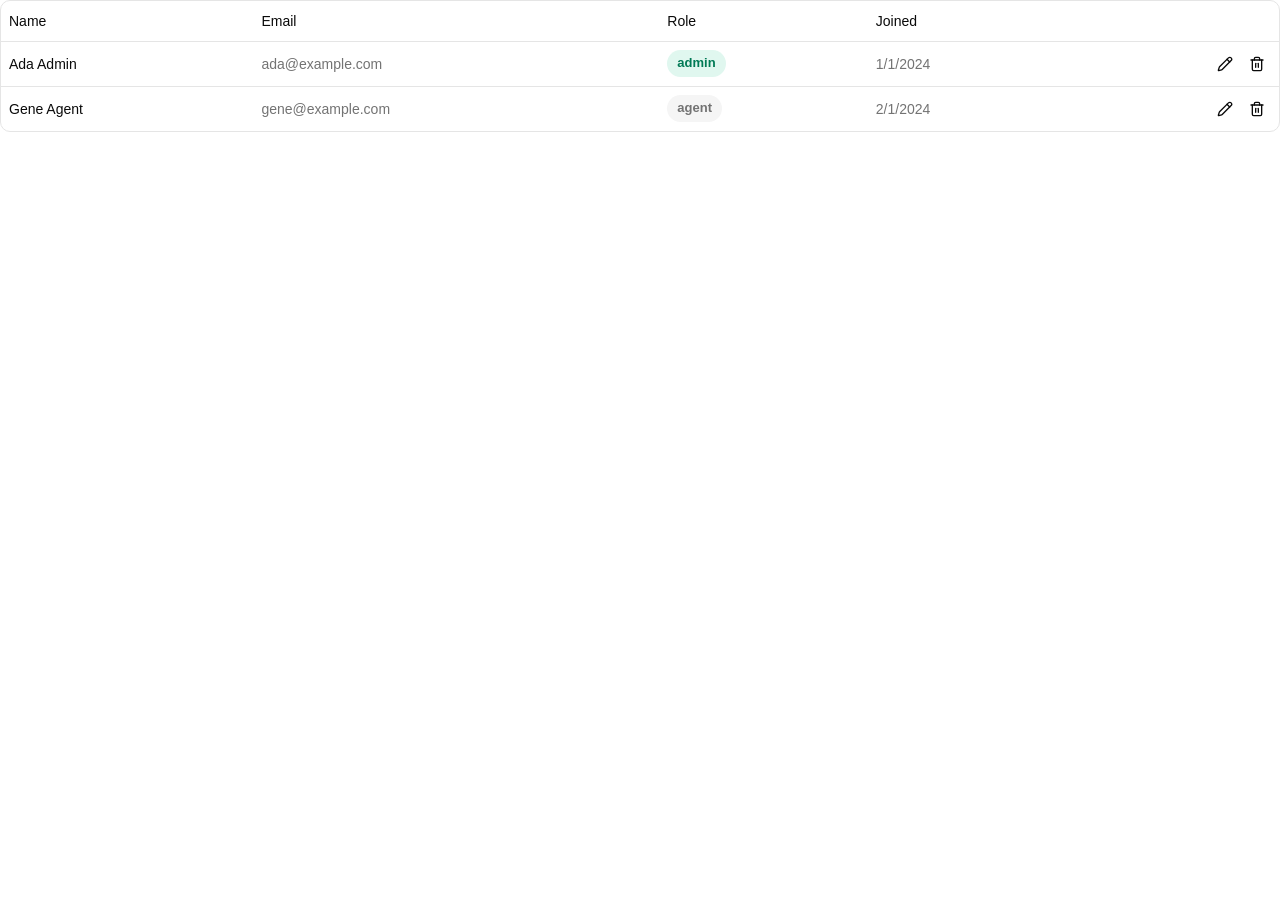
Scenario: opens the edit dialog populated with the clicked row
The image size is (1280, 900).
Expected: the text "Gene Agent" is shown, [1, 86, 253, 130]
Click the 3rd button named "Edit Gene Agent": (1225, 108) [1211, 94, 1239, 122]
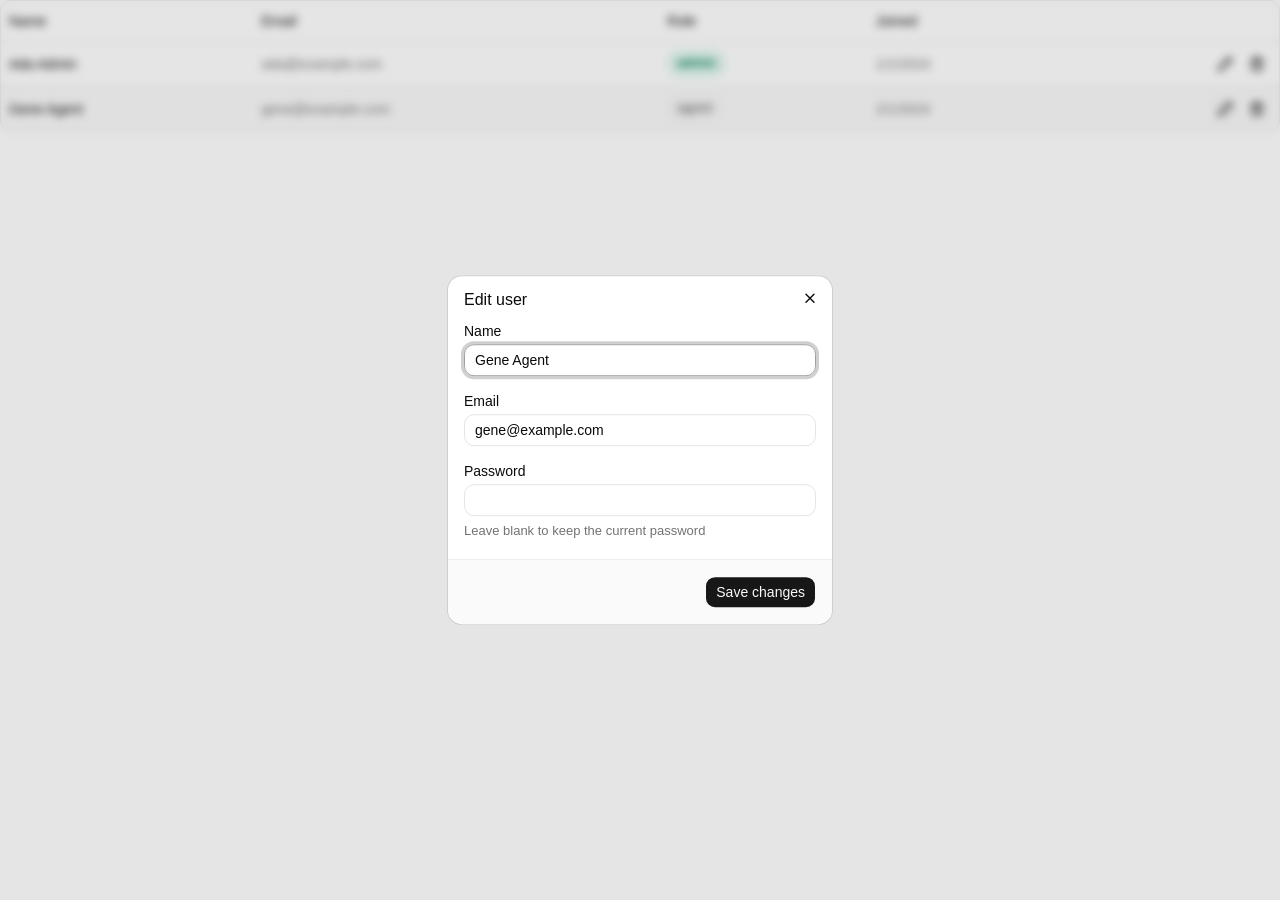
Expected: the dialog is shown, [448, 276, 832, 624]
Expected: the heading "Edit user" is shown, [464, 291, 527, 308]
Expected: the field labelled "Name" holds "Gene Agent", [464, 344, 816, 376]
